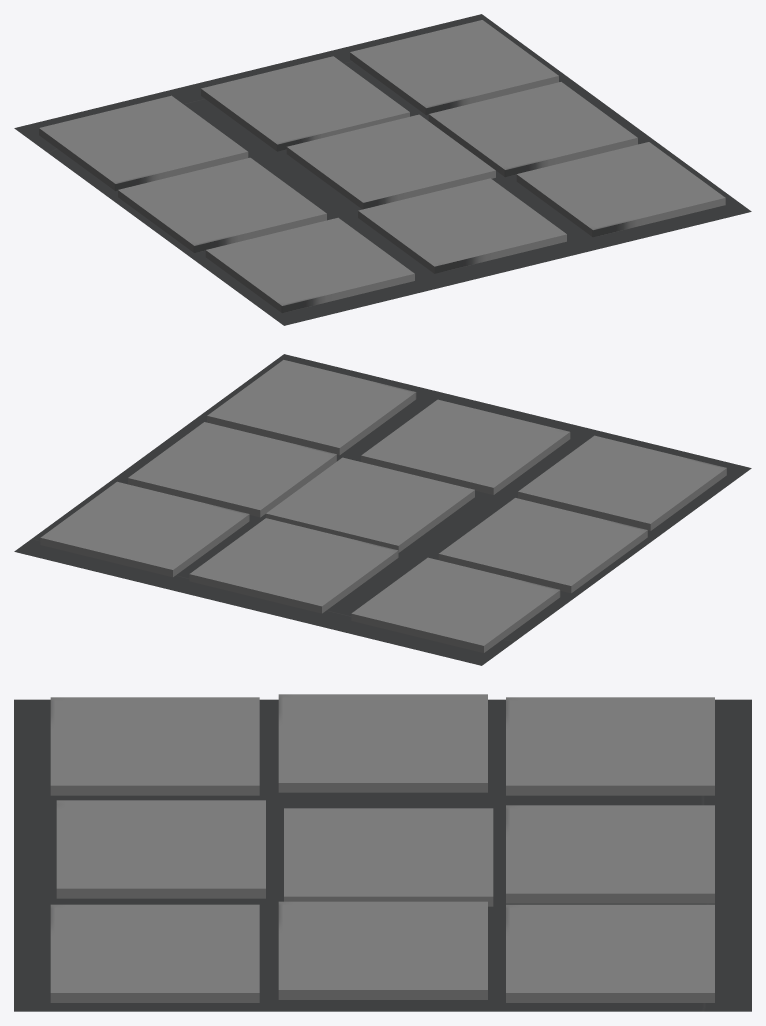
The model's file is Floor_02.fbx.
3 views of the same model, one above another, from view 1: azimuth 30°, elevation 25°; view 2: azimuth 150°, elevation 25°; view 3: azimuth 270°, elevation 25° (orthographic). The views are drawn at different scales.
Parts seen in each view (by area): view 1: Plane.010; view 2: Plane.010; view 3: Plane.010.
Part boxes in pixels (box(x1,y1,x2,y2)): Plane.010: box(14, 14, 751, 325); Plane.010: box(14, 354, 751, 665); Plane.010: box(14, 694, 751, 1011).
Size of the model in its own units: 800 by 11.89 by 800.
